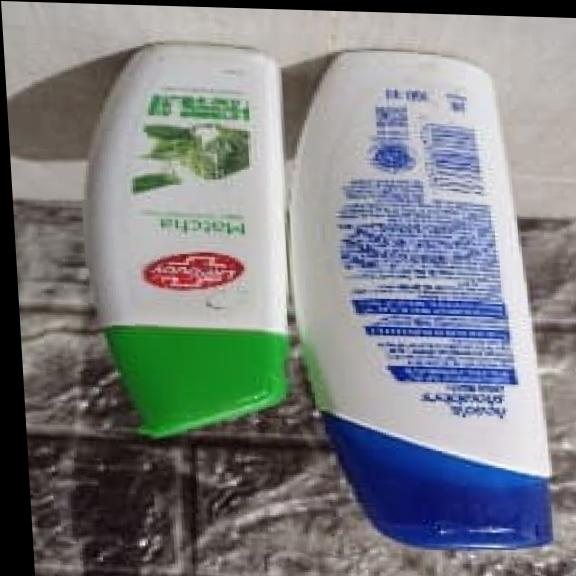Plastik: (289, 52, 551, 549), (85, 46, 285, 434)
